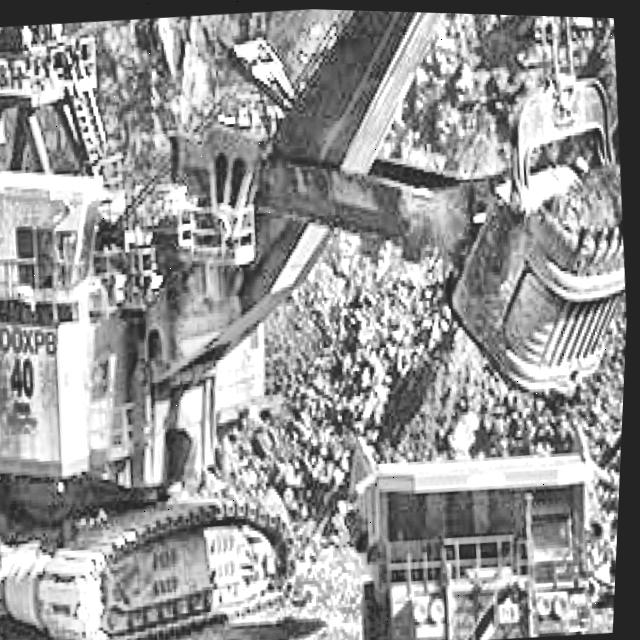dump_truck: (327, 378, 622, 640)
